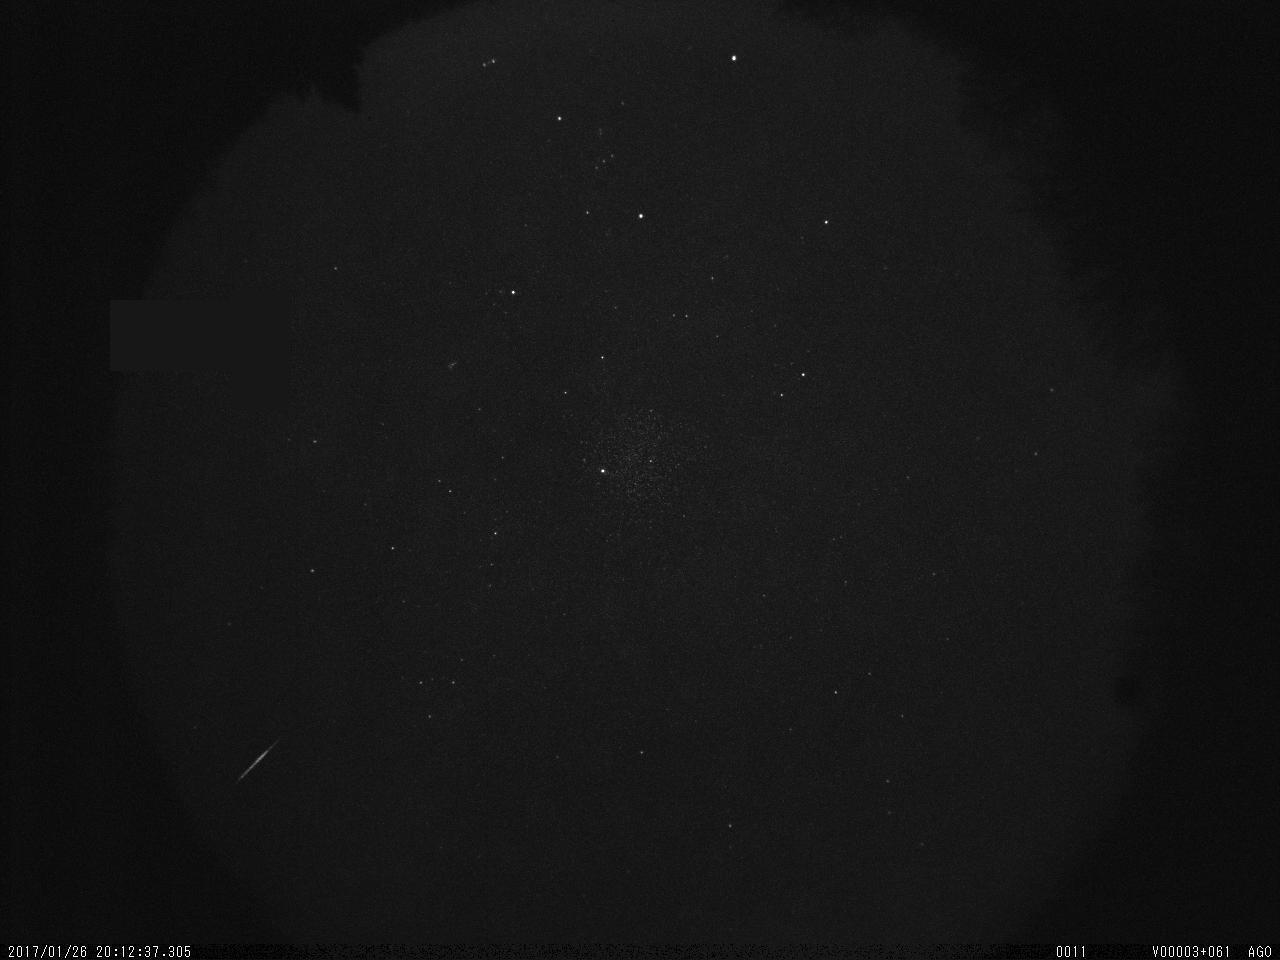meteor: (223, 730, 289, 794)
